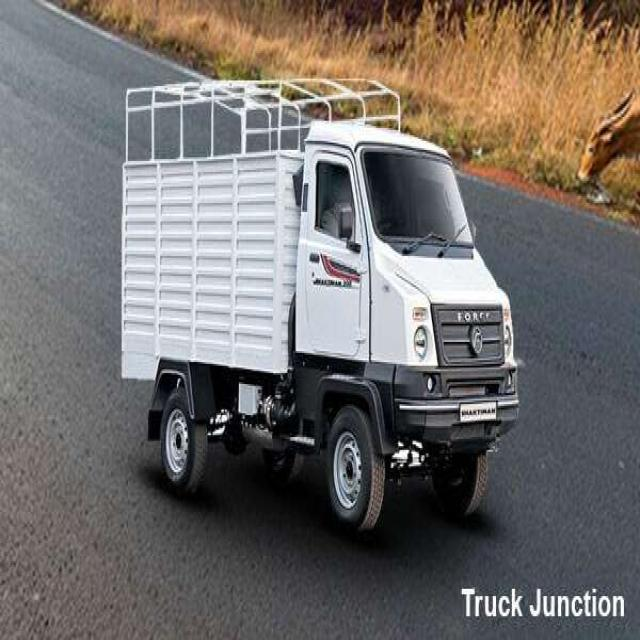truck: (121, 79, 519, 530)
